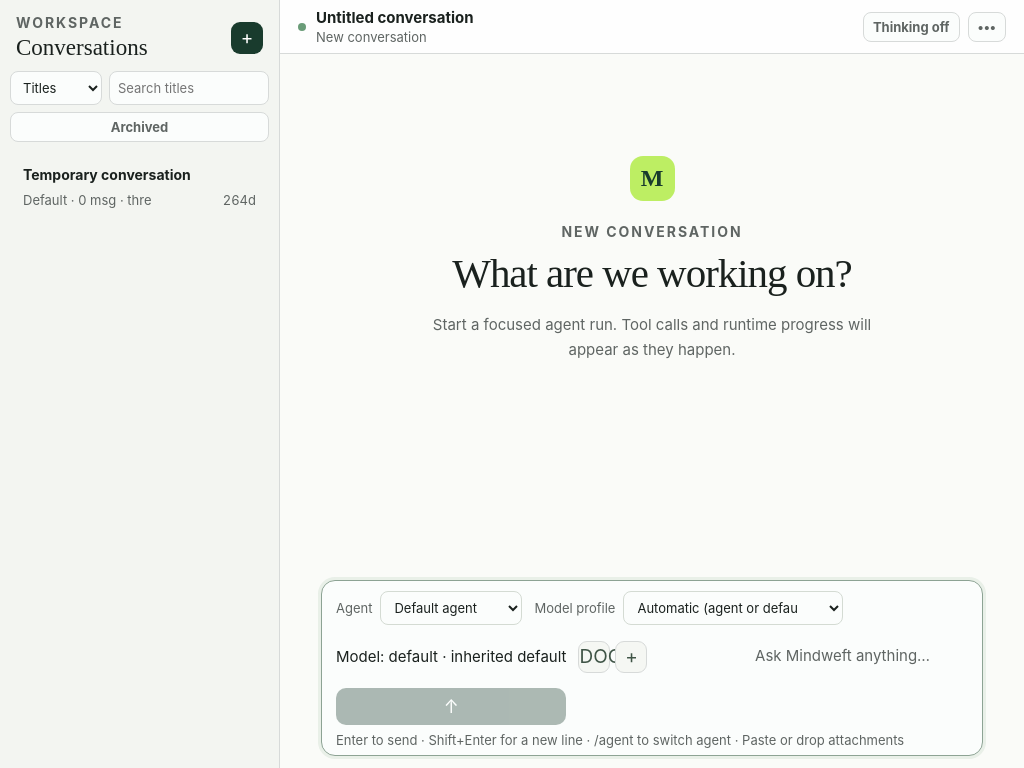
Test: workspace file interactions › deletes a selected standalone conversation after confirmation
This screenshot has width=1024, height=768.
Click the button "Temporary conversation Default · 0 msg · thre 264d".
click(140, 187)  # box [10,154,269,220]
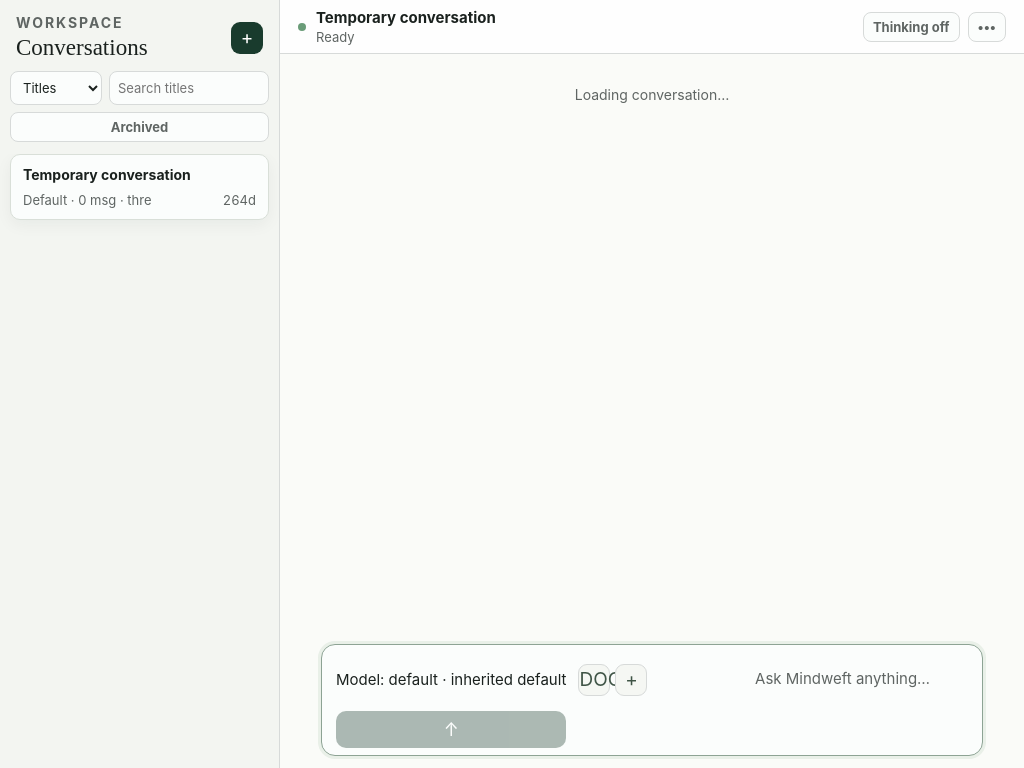
Expected: the heading "Temporary conversation" is shown, [316,8,496,27]
Click the button named "Conversation actions".
click(987, 26)  # box [968,12,1006,42]
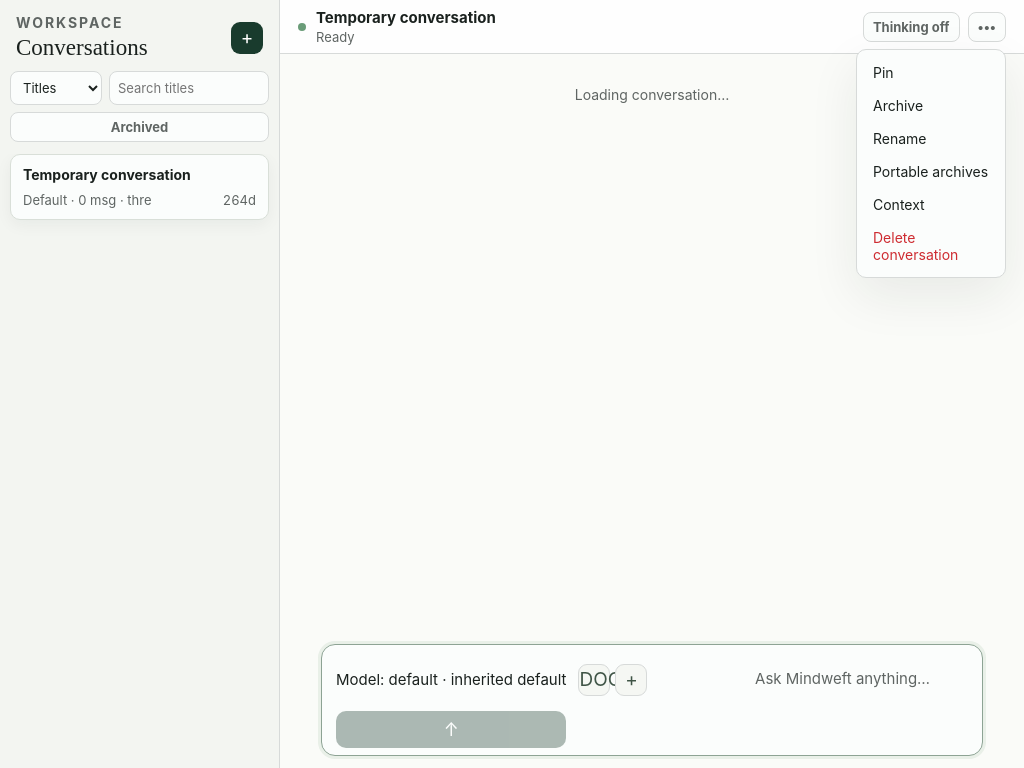
Click the button "Delete conversation".
click(931, 246)  # box [863,220,999,270]
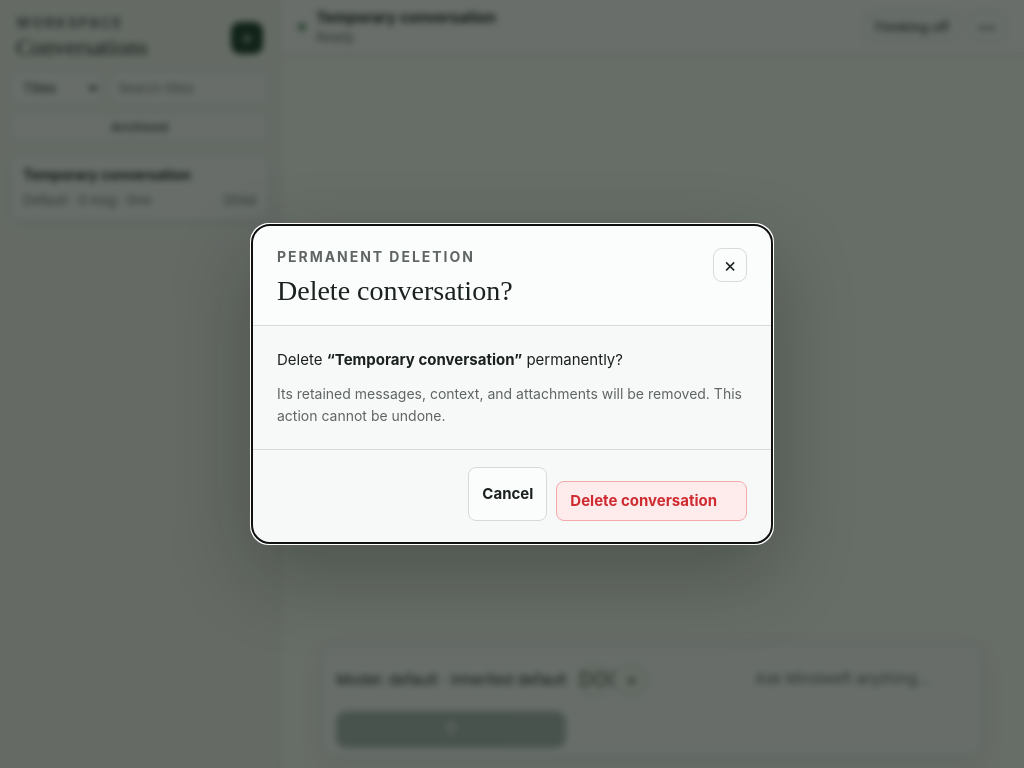
Expected: the button "Delete conversation" is enabled
Click the button "Delete conversation".
click(652, 501)  # box [556,481,747,521]
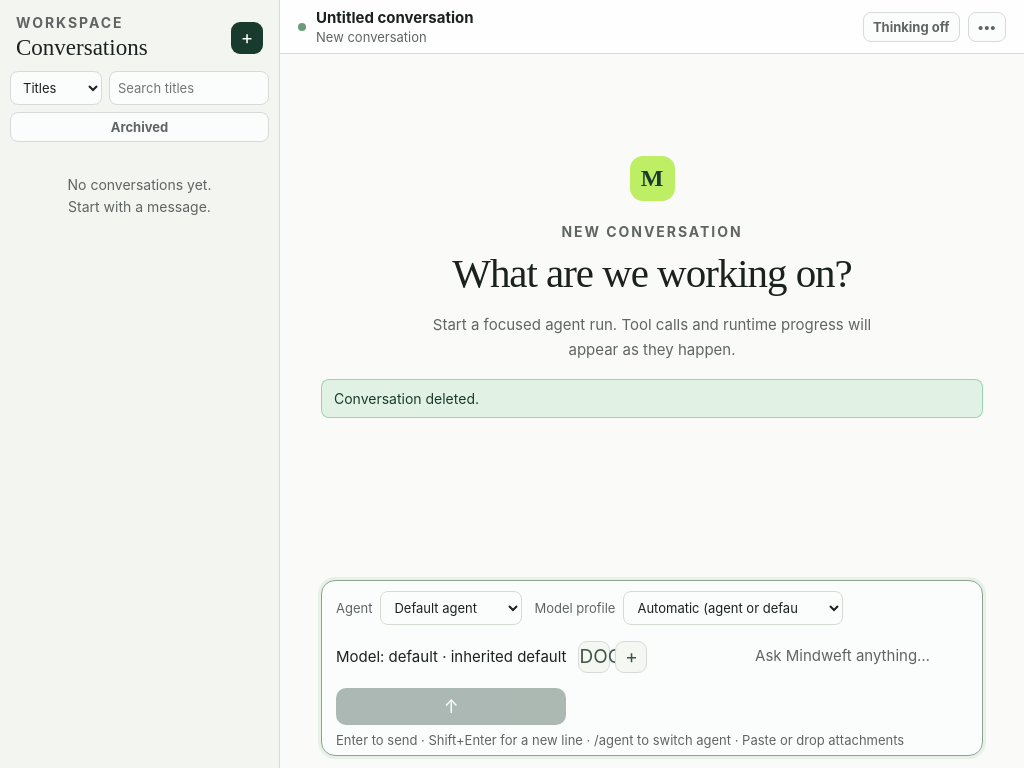
Expected: the message reads "Conversation deleted.", [334,390,479,407]
Expected: the heading "Untitled conversation" is shown, [316,8,474,27]
